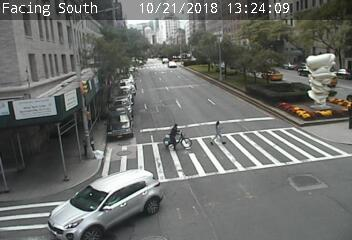car: (47, 169, 162, 239), (167, 61, 176, 68), (162, 58, 168, 64)
